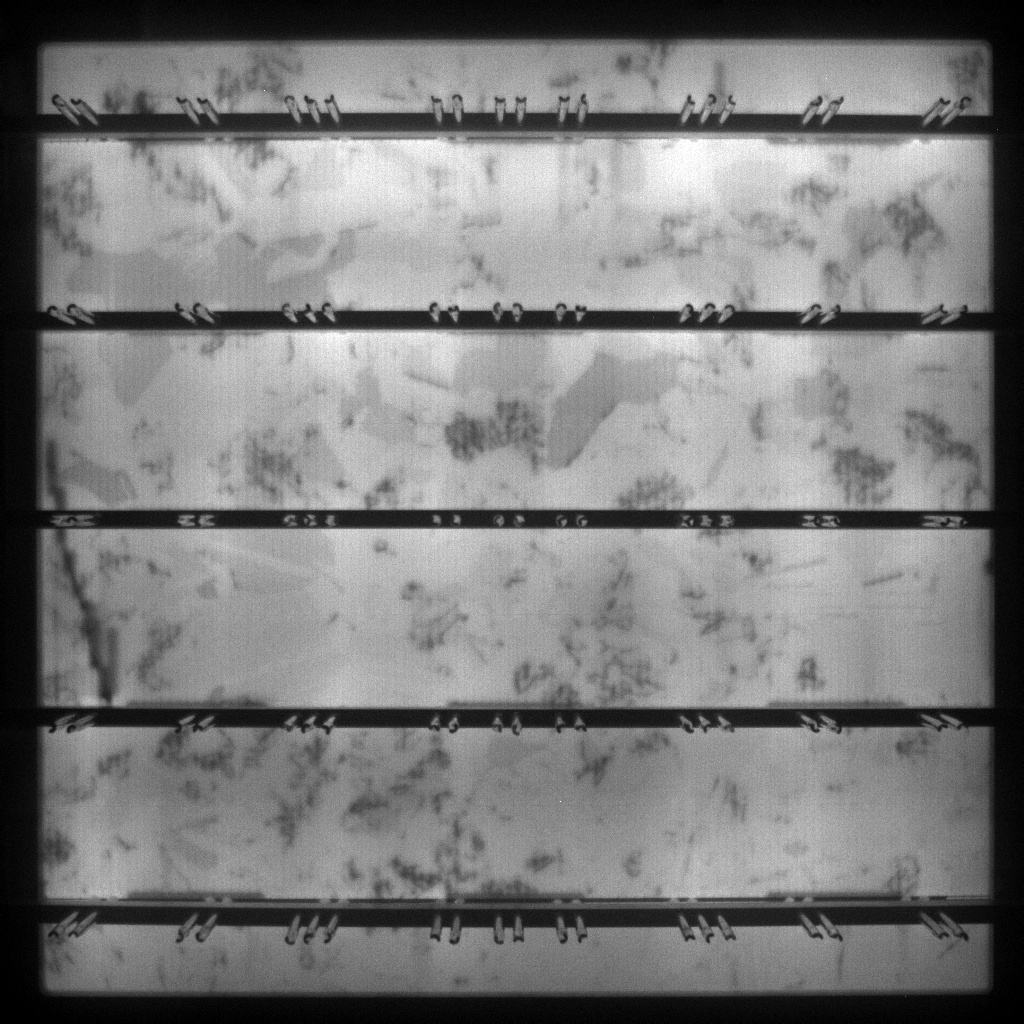crack: (51, 530, 121, 702)
